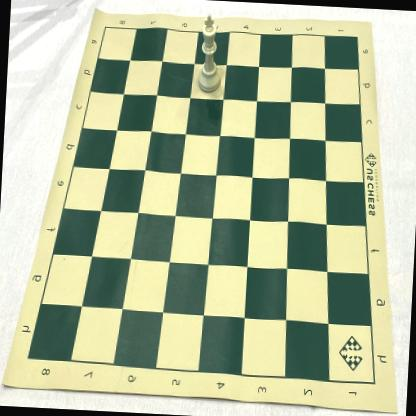white-king: (196, 13, 224, 94)
